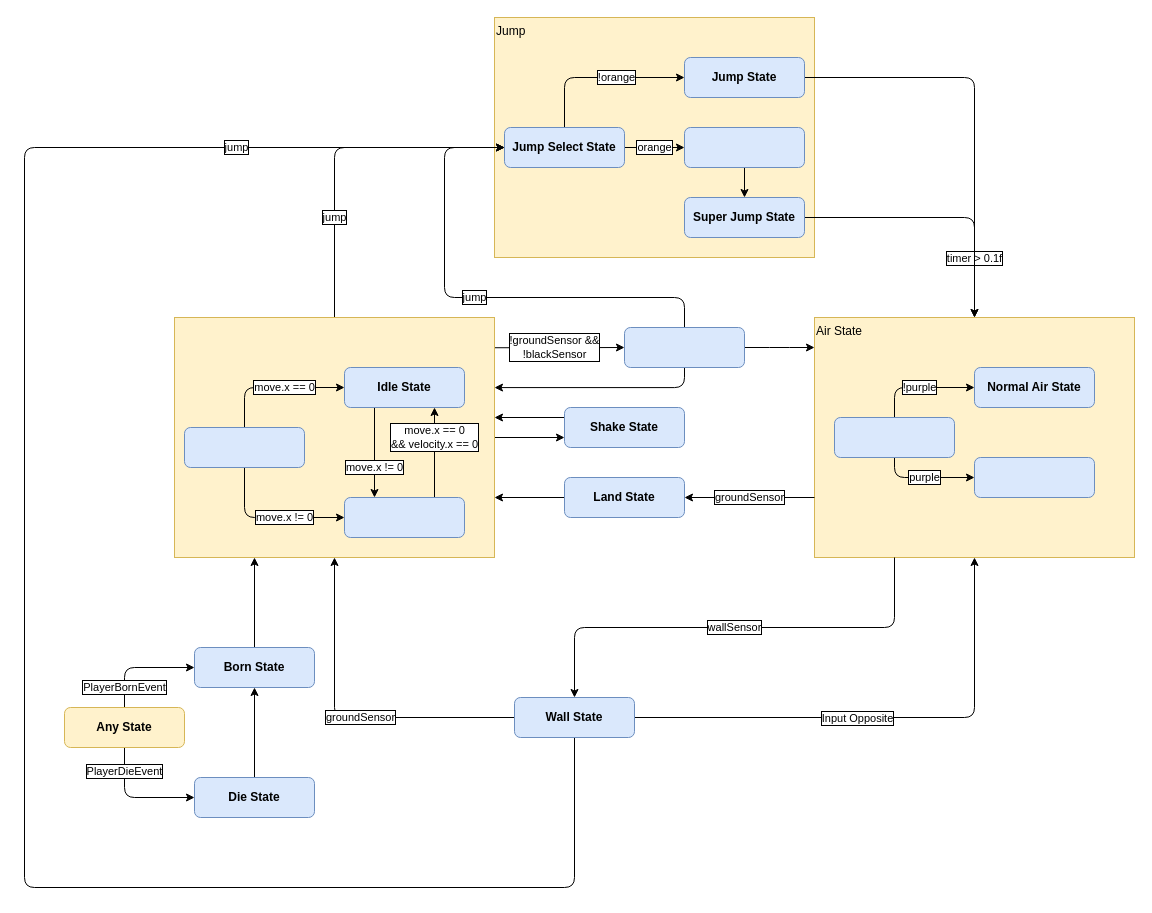
The diagram is 1152 pixels wide and 913 high, and some of its shapes have lost their labels. The box of each missing label's shape, as (x1, y1, x2, y2) in pixels:
Air Select State: (834, 416, 954, 458)
Coyote State: (624, 326, 744, 368)
Float State: (974, 456, 1094, 498)
Ground Select State: (184, 426, 304, 468)
Ground State: (174, 316, 494, 558)
Move State: (344, 496, 464, 538)
Super Jump Begin State: (684, 126, 804, 168)
